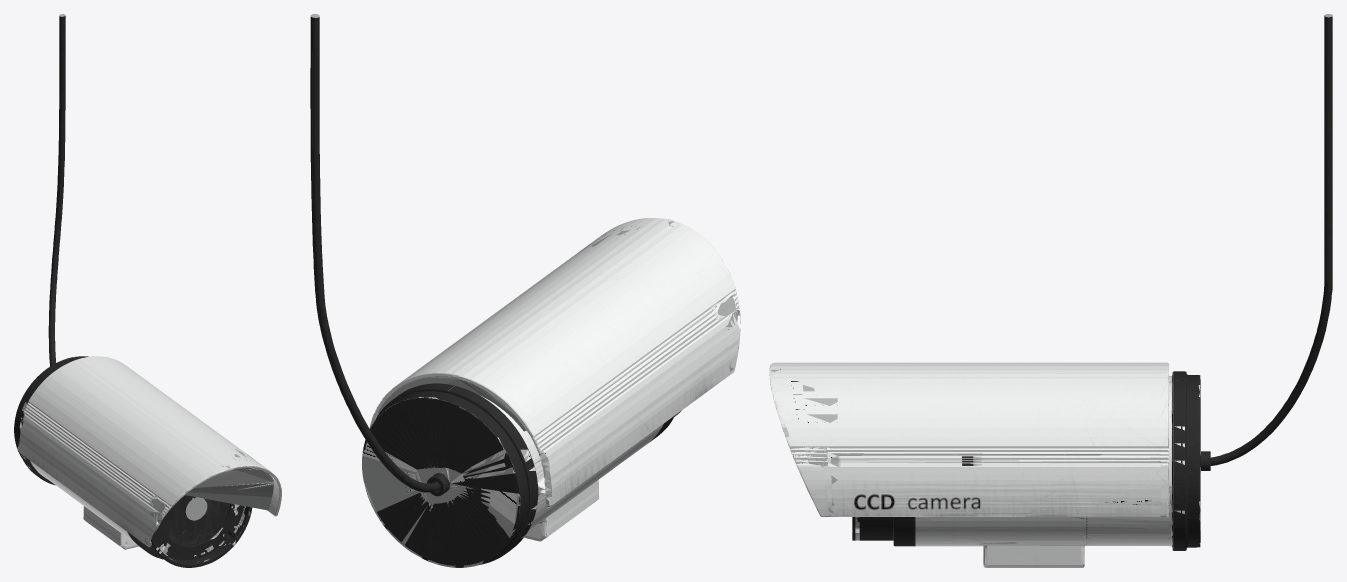
The model's file is surveillance_camerapaspied.glb.
The picture shows the model from 3 angles, left to right: view 1: azimuth 30°, elevation 25°; view 2: azimuth 150°, elevation 25°; view 3: azimuth 270°, elevation 25°; orthographic projection. The views are drawn at different scales.
Size of the model in its own units: 0.1506 by 0.4729 by 0.4287.
1 material, 1 textured.
